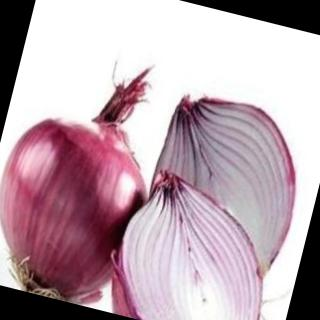Bawang Merah: (97, 78, 320, 320), (1, 34, 181, 314)
